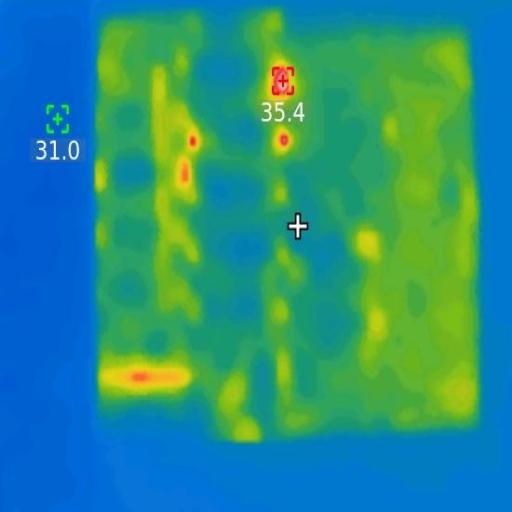hotspot: (269, 64, 296, 102), (132, 363, 151, 386), (186, 132, 199, 157), (278, 132, 294, 151)
